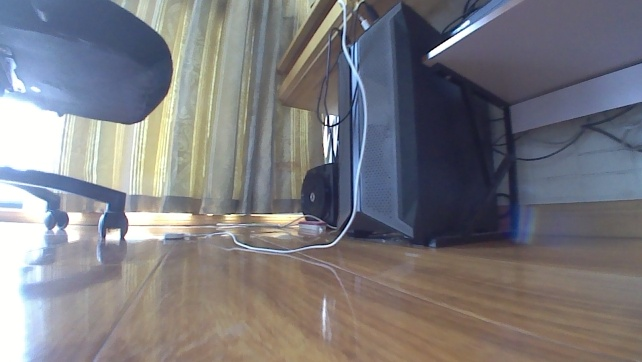wire: (185, 0, 369, 255), (491, 118, 589, 163), (321, 24, 349, 164), (314, 50, 360, 128), (580, 102, 641, 153), (215, 213, 338, 230), (349, 0, 380, 45), (494, 191, 515, 219), (490, 130, 506, 145)
